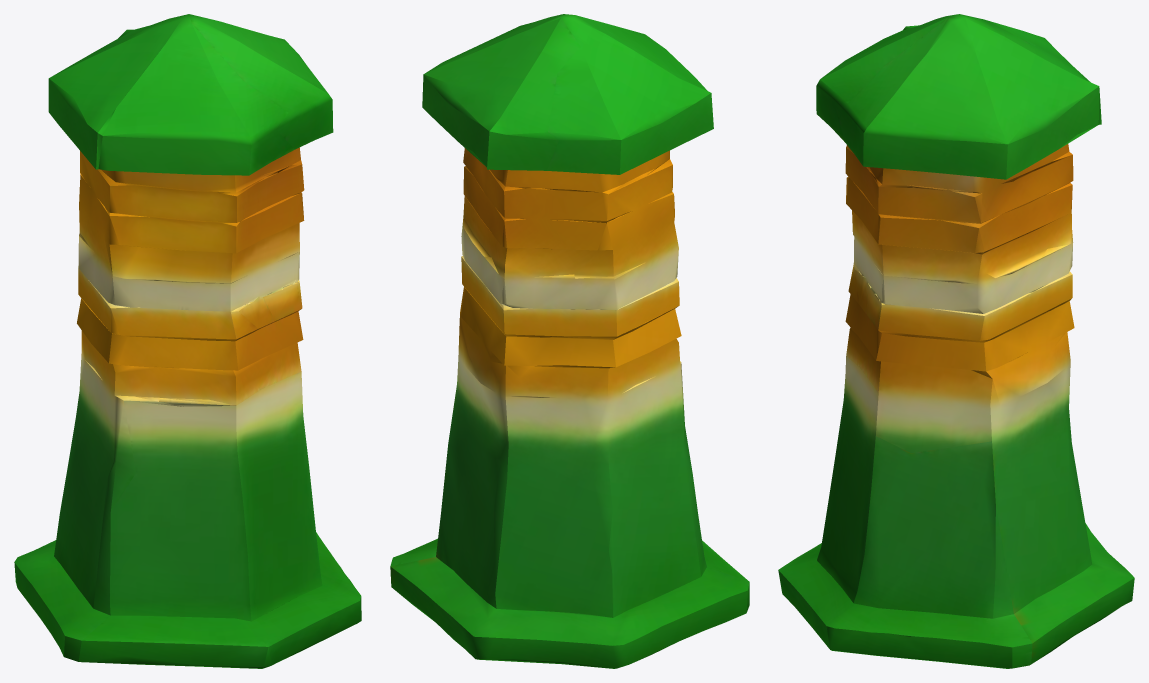
File: landingBeacon.glb
3 renders of one model, left to right at view 1: azimuth 30°, elevation 25°; view 2: azimuth 150°, elevation 25°; view 3: azimuth 270°, elevation 25°, orthographic.
Parts seen in each view (by area): view 1: model; view 2: model; view 3: model.
Boxes of the visible parts, x1=… form: model: x1=14, y1=14, x2=361, y2=668; model: x1=390, y1=14, x2=749, y2=668; model: x1=778, y1=14, x2=1134, y2=668.
Bounding box in the file's own units: 1.03 × 1.91 × 1.05.
1 material, 1 textured.
